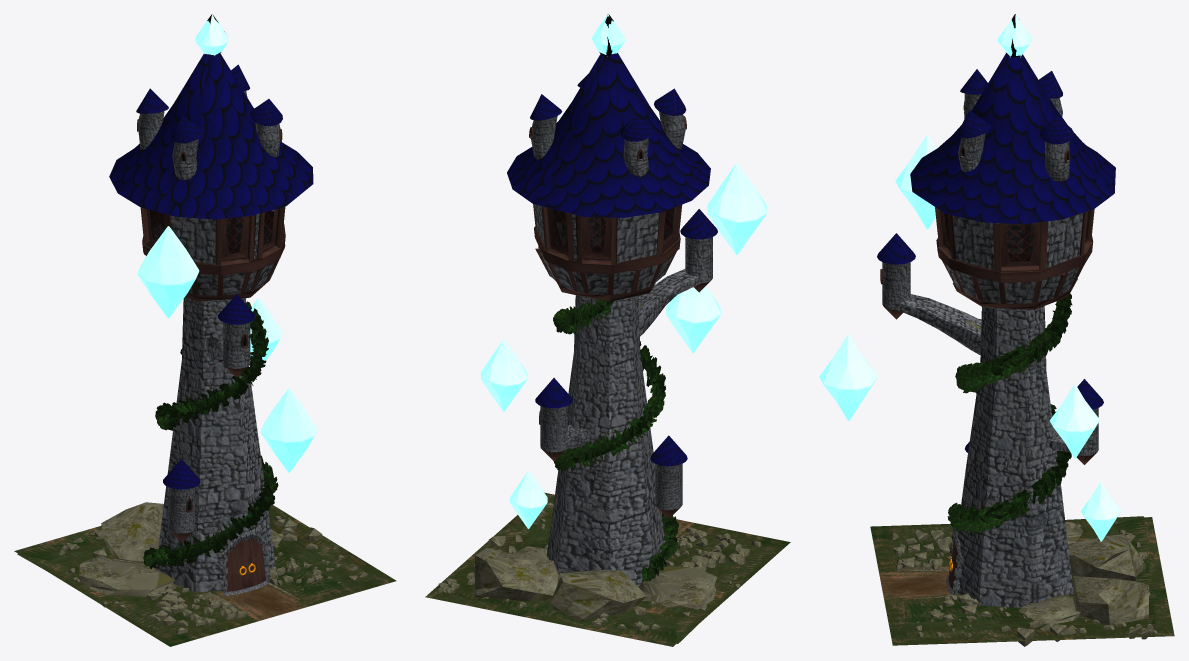
File: free_stone_mage_tower.glb
3 views of the same model, side by side, from view 1: azimuth 30°, elevation 25°; view 2: azimuth 150°, elevation 25°; view 3: azimuth 270°, elevation 25° (orthographic). The views are drawn at different scales.
Visible parts, largest first — view 1: Mage_Tower, Gem4, Gem2, Gem3; view 2: Mage_Tower, Gem4, Gem2, Gem3, Gem1; view 3: Mage_Tower, Gem2, Gem3, Gem4, Gem1.
Boxes of the visible parts, x1,y1,x2,y2 form: Mage_Tower: (14,14,396,646); Gem4: (137,226,199,318); Gem2: (260,388,317,472); Gem3: (250,298,282,364); Mage_Tower: (425,14,790,646); Gem4: (707,163,767,254); Gem2: (666,286,720,353); Gem3: (480,339,527,411); Gem1: (510,471,547,528); Mage_Tower: (870,14,1174,646); Gem2: (819,334,877,421); Gem3: (1050,384,1099,458); Gem4: (895,135,936,229); Gem1: (1081,482,1121,541).
Size of the model in its own units: 6.54 by 13.67 by 7.6.
3 materials, 3 textured.
